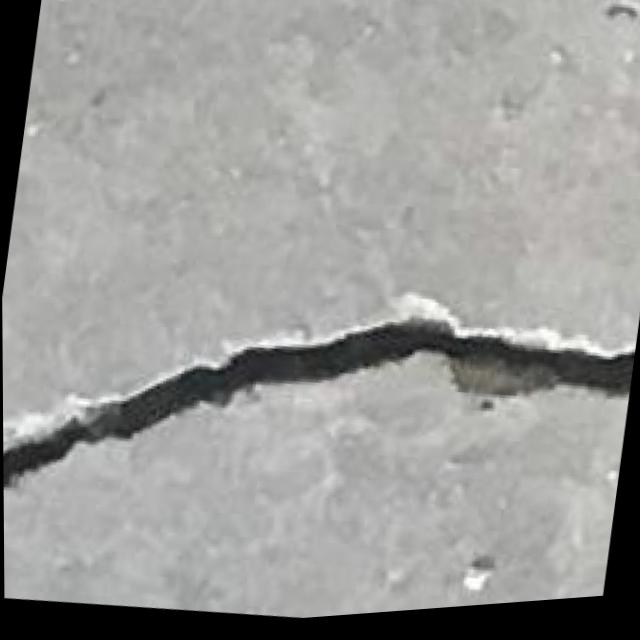Crack: (1, 198, 634, 568)
